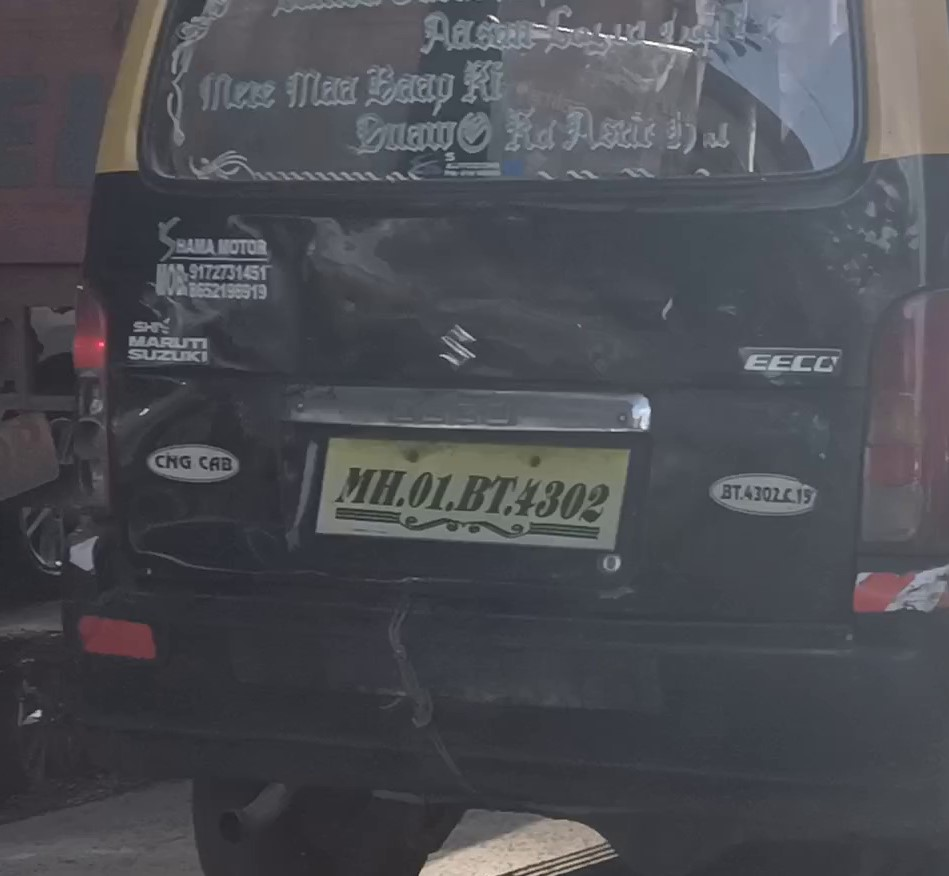MH01BT4302: (314, 436, 630, 554)
